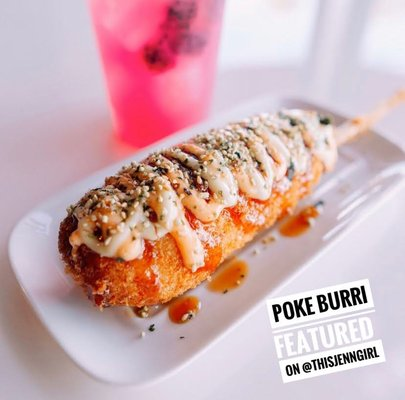pizza: (87, 1, 226, 154)
